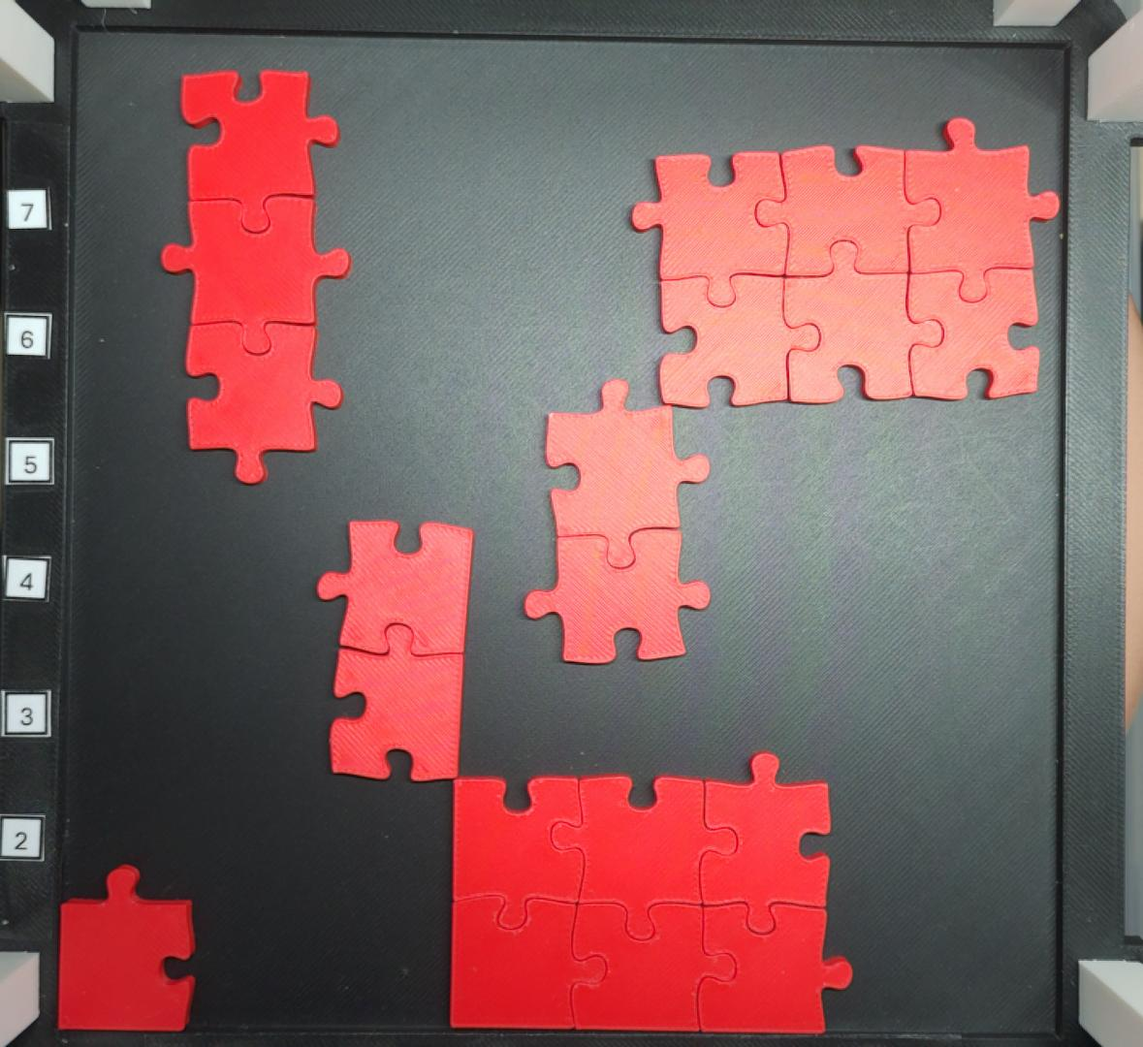p_1: (60, 864, 196, 1030)
p_2: (525, 380, 714, 665), (317, 519, 474, 781)
p_3: (162, 68, 352, 484)
p_m: (632, 116, 1061, 408), (449, 753, 856, 1037)
